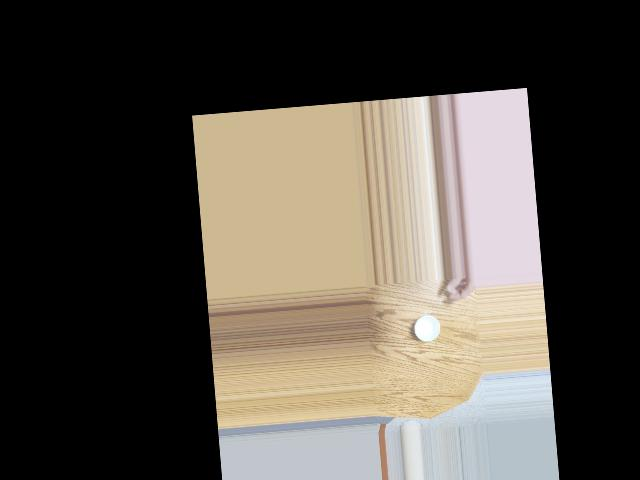cotage: (413, 309, 444, 344)
